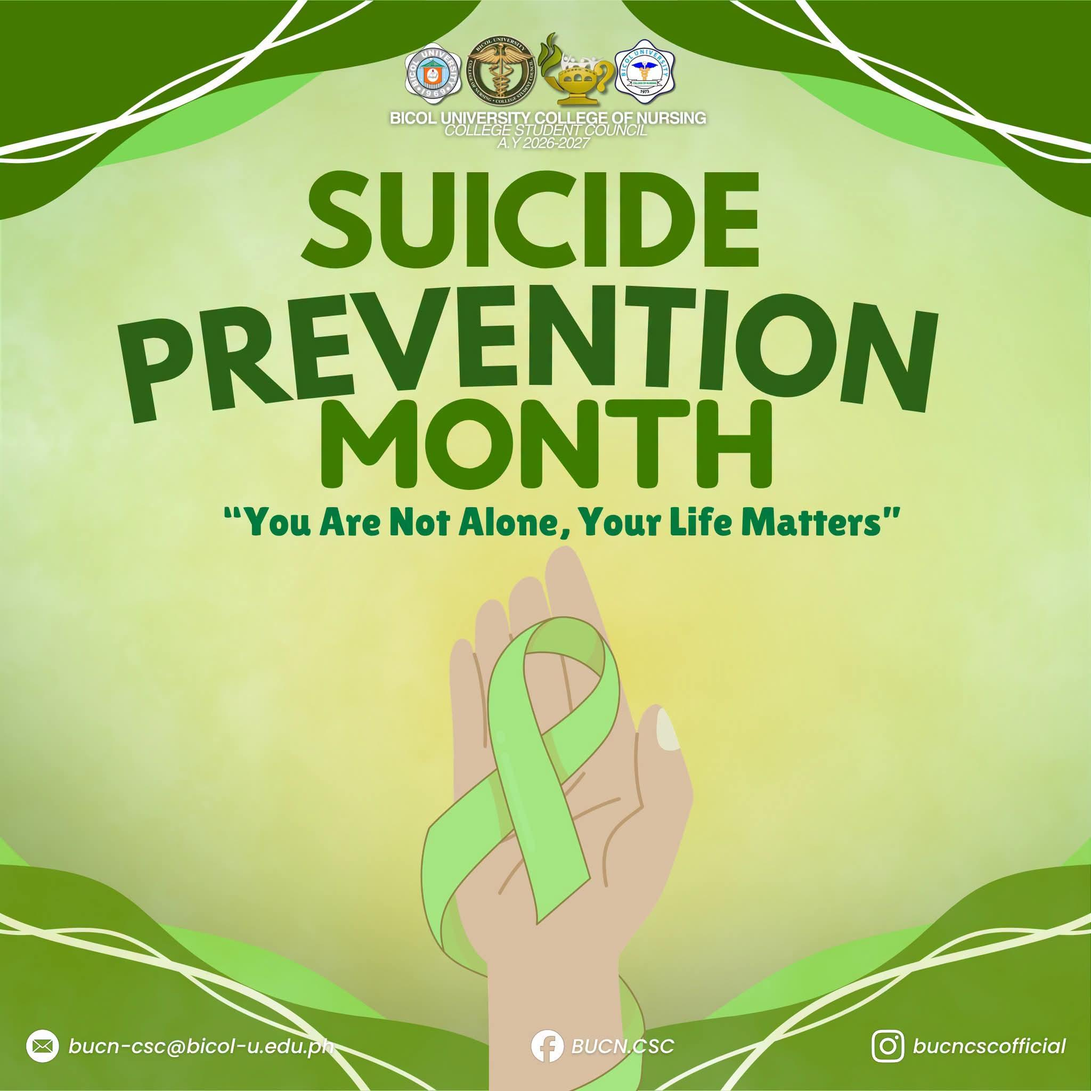embellishment: (417, 613, 630, 984), (867, 1024, 907, 1069), (20, 1025, 62, 1065), (527, 1026, 567, 1064)
logo: (538, 29, 615, 109), (466, 30, 540, 107), (615, 36, 681, 107), (400, 39, 466, 107)
text: (110, 277, 950, 493), (297, 166, 766, 274), (215, 498, 907, 541), (387, 105, 711, 150), (62, 1032, 339, 1060), (907, 1030, 1076, 1059), (568, 1032, 681, 1057)
